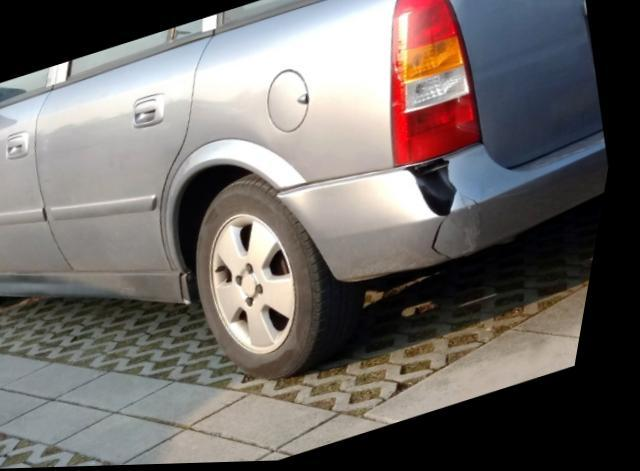crack: (409, 159, 490, 262)
